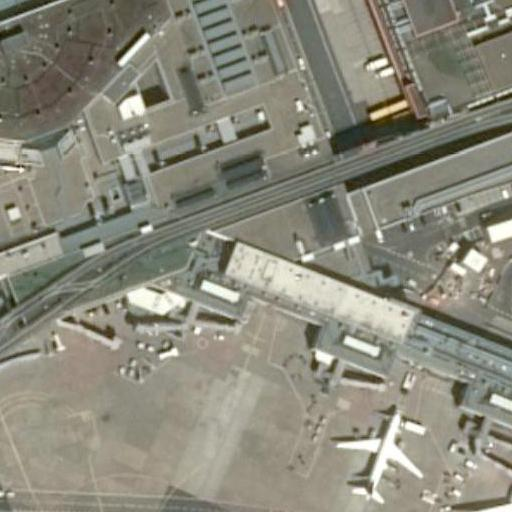Aircraft: (325, 396, 432, 508), (445, 436, 512, 512)
